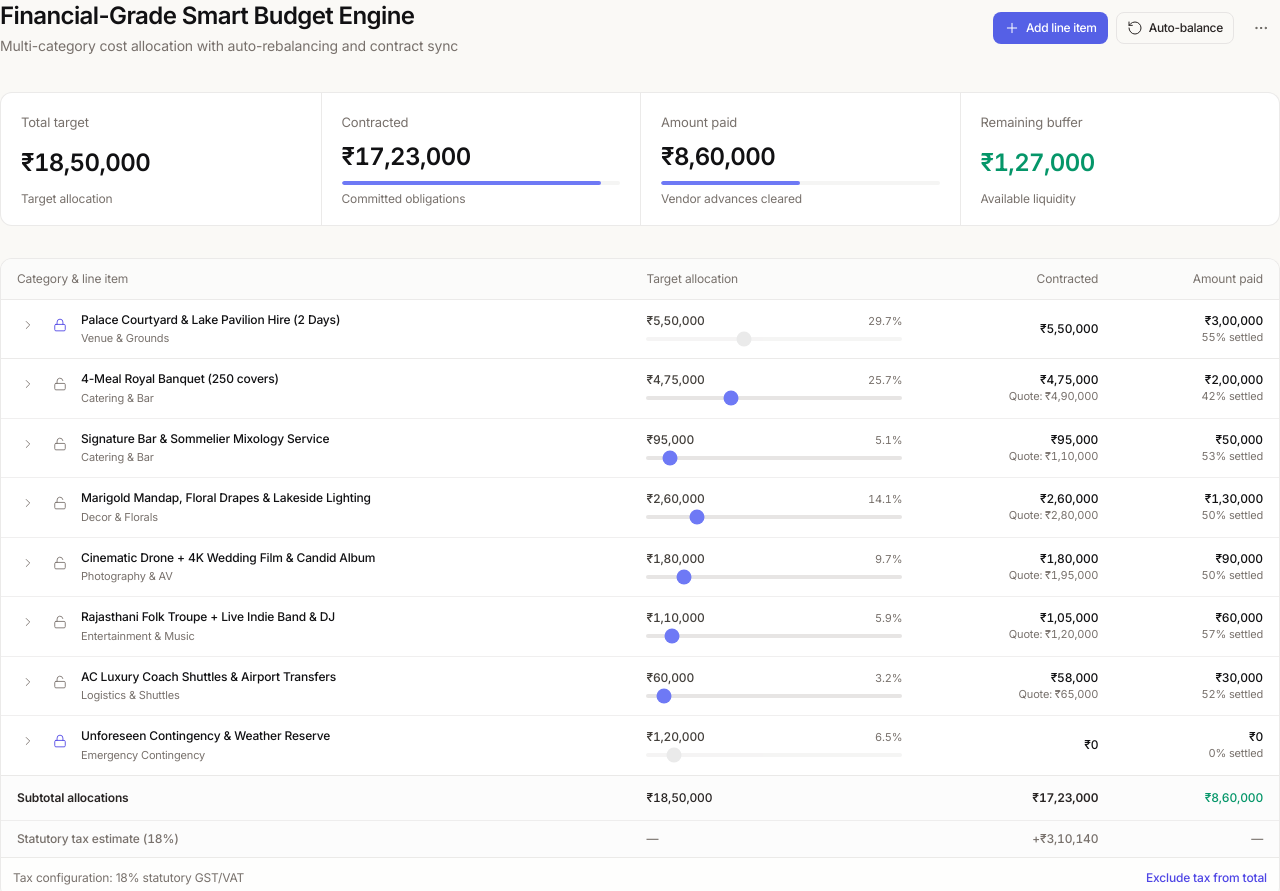
Test: User Input CRUD: Budget & Vendor Operations › renders Add Line Item button in BudgetTab and opens modal
Click the button "Add line item" at (1050, 28), box top-left (993, 12), bottom-right (1108, 44)
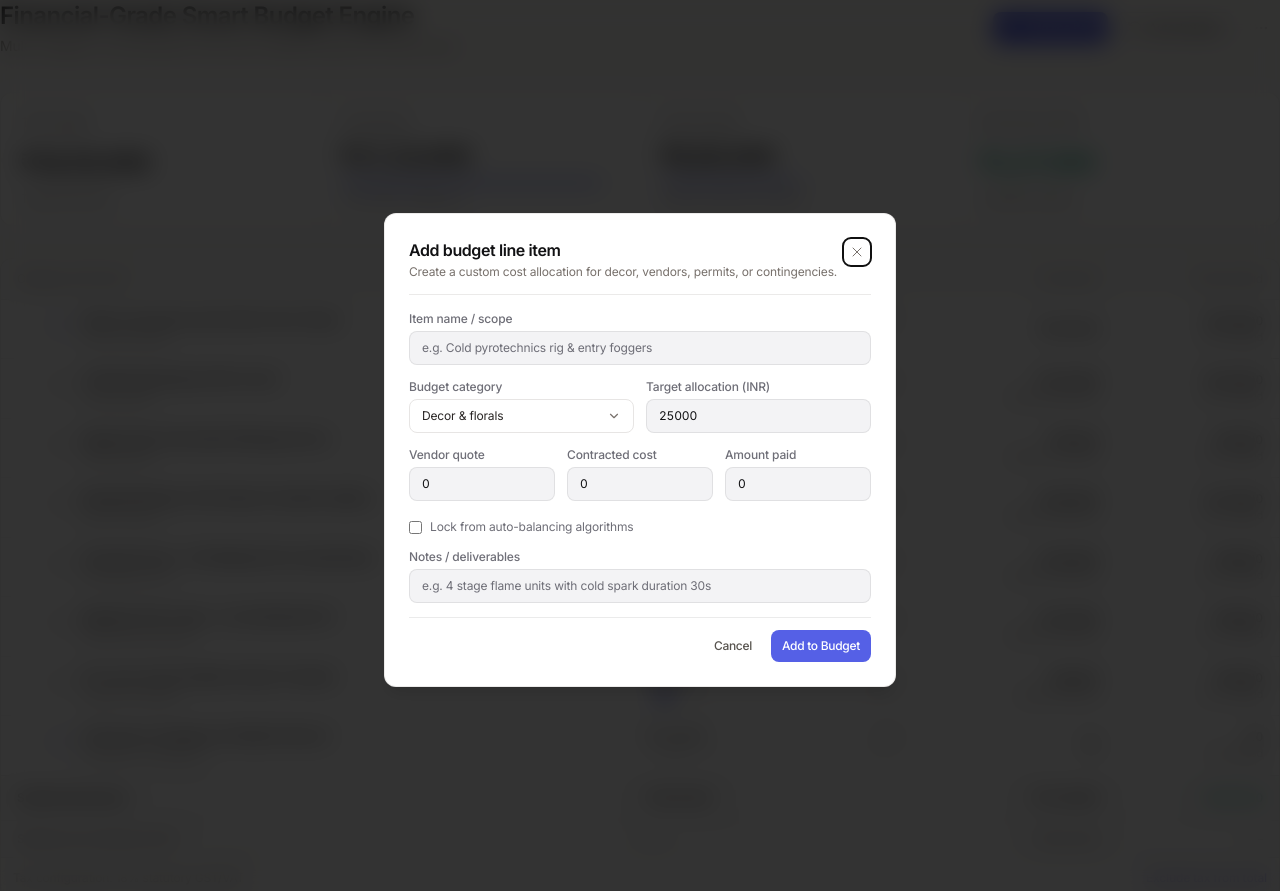
Expected: the heading "Add budget line item" is shown, top-left (409, 240), bottom-right (560, 260)
Expected: the field labelled "Item name / scope" is shown
Type "Custom Acoustic Band" into the field labelled "Item name / scope" at (640, 348), box top-left (409, 331), bottom-right (871, 365)
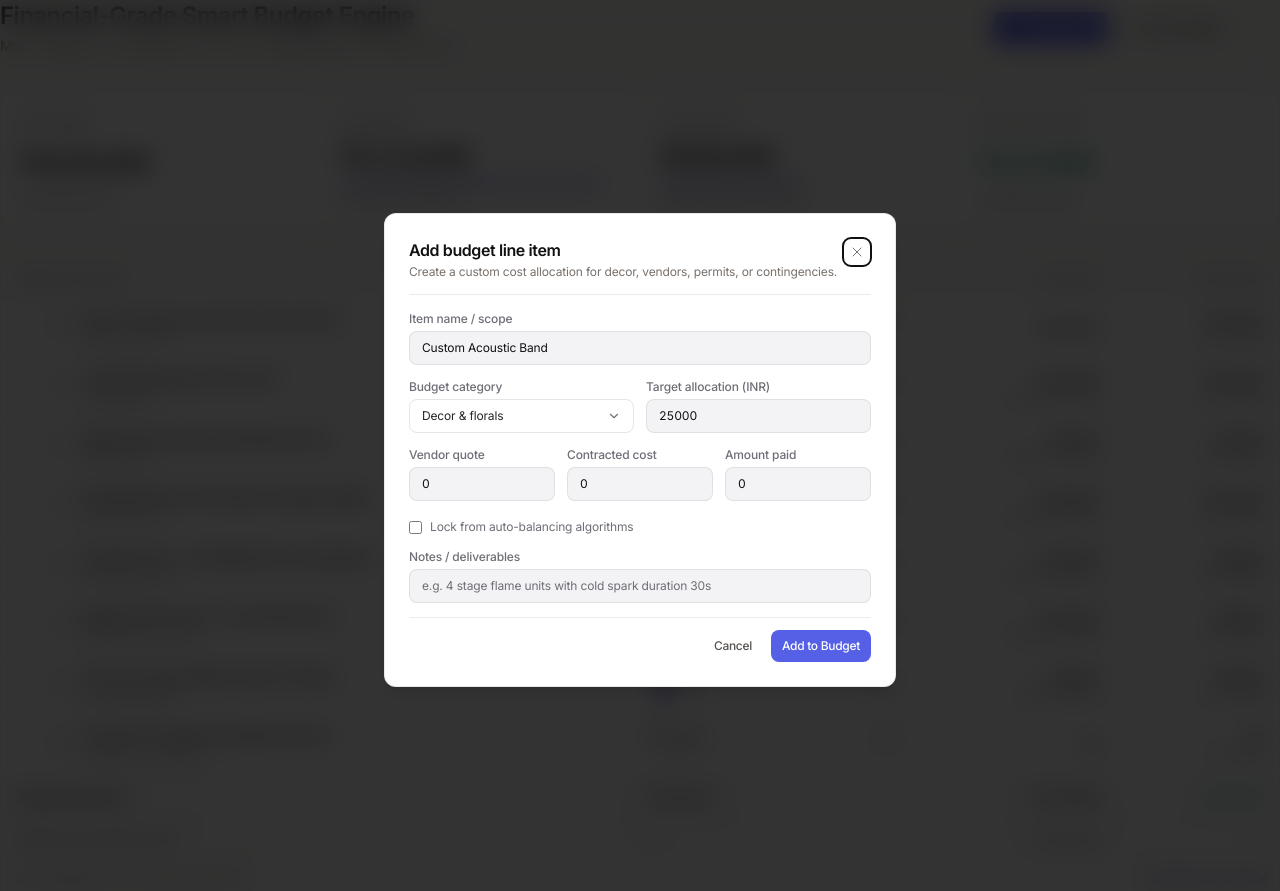
Replace the text in the number field labelled "Target allocation (INR)" with "85000" at (758, 416), box top-left (646, 399), bottom-right (871, 433)
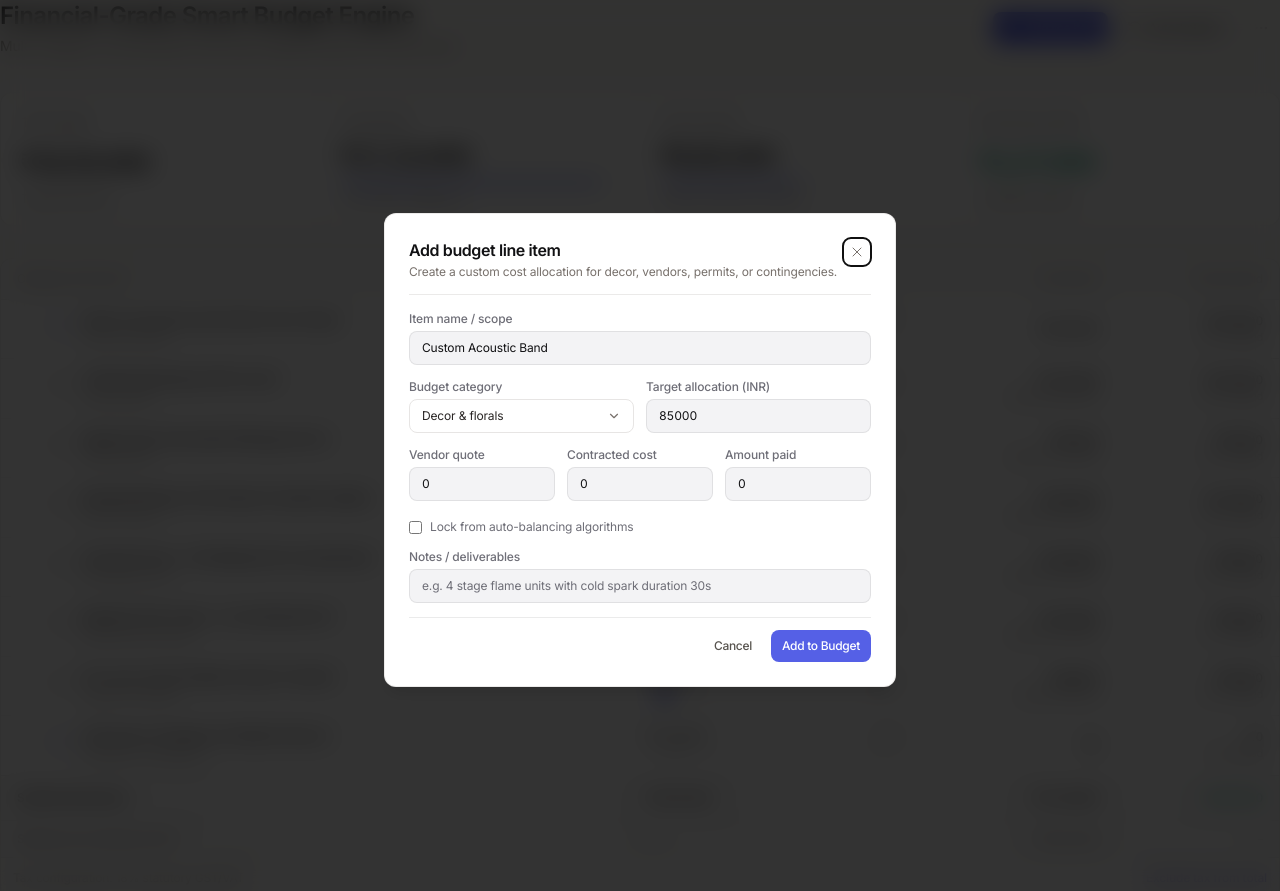
Click the button "Add to Budget" at (821, 646), box top-left (771, 630), bottom-right (871, 662)
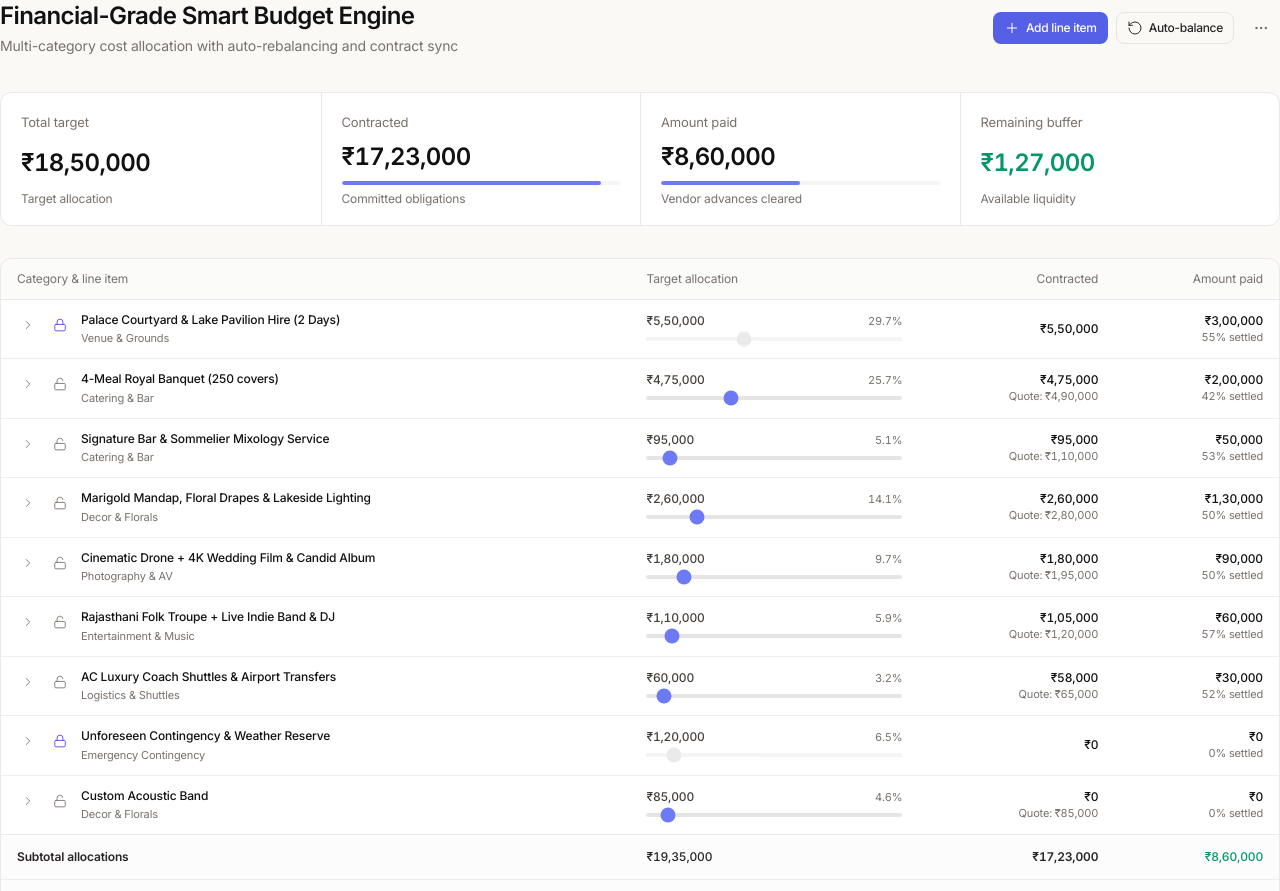
Expected: the heading "Add budget line item" is gone
